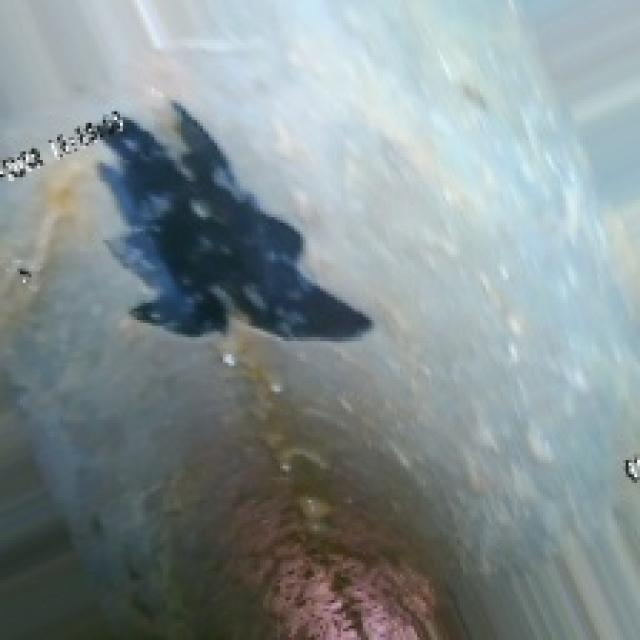pipe_surface_damage: (80, 94, 380, 343)
